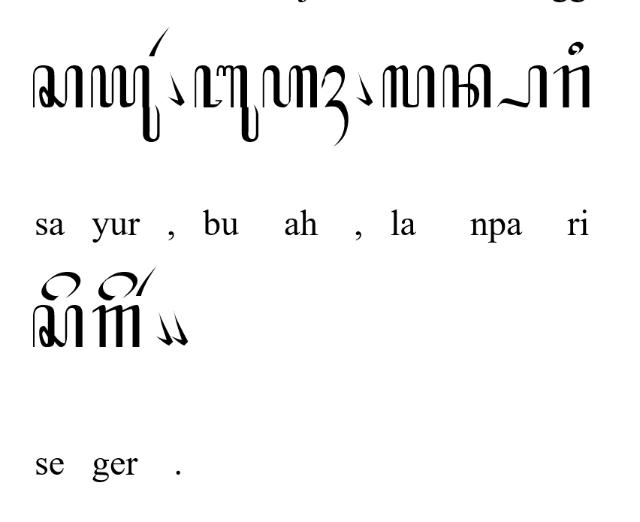_h1: (321, 65, 349, 147)
_p: (497, 64, 548, 108)
_r1: (148, 26, 170, 56), (136, 266, 156, 296)
bu: (194, 64, 260, 142)
e: (41, 271, 80, 301), (99, 270, 138, 300)
g: (91, 304, 140, 348)
h: (262, 65, 318, 109)
i: (568, 40, 584, 56)
kom: (156, 312, 174, 346), (168, 72, 185, 106), (172, 310, 188, 345), (356, 74, 372, 106)
l: (382, 64, 434, 108)
n: (442, 64, 492, 108)
r: (552, 64, 590, 108)
s: (32, 304, 84, 350), (32, 64, 84, 108)
yu: (90, 65, 160, 143)
